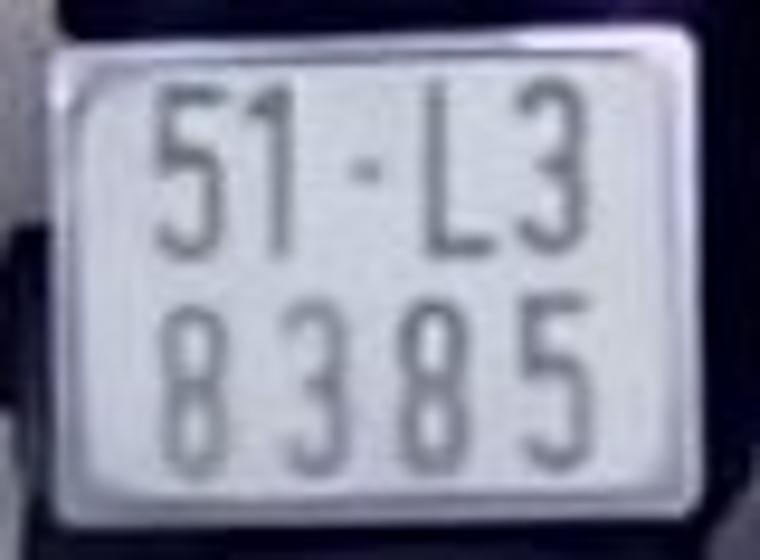-: (340, 159, 389, 185)
1: (246, 76, 304, 263)
3: (513, 71, 592, 257), (279, 296, 354, 483)
5: (510, 287, 602, 476), (152, 80, 228, 267)
8: (151, 303, 232, 481), (396, 298, 469, 481)
L: (417, 71, 496, 255)
